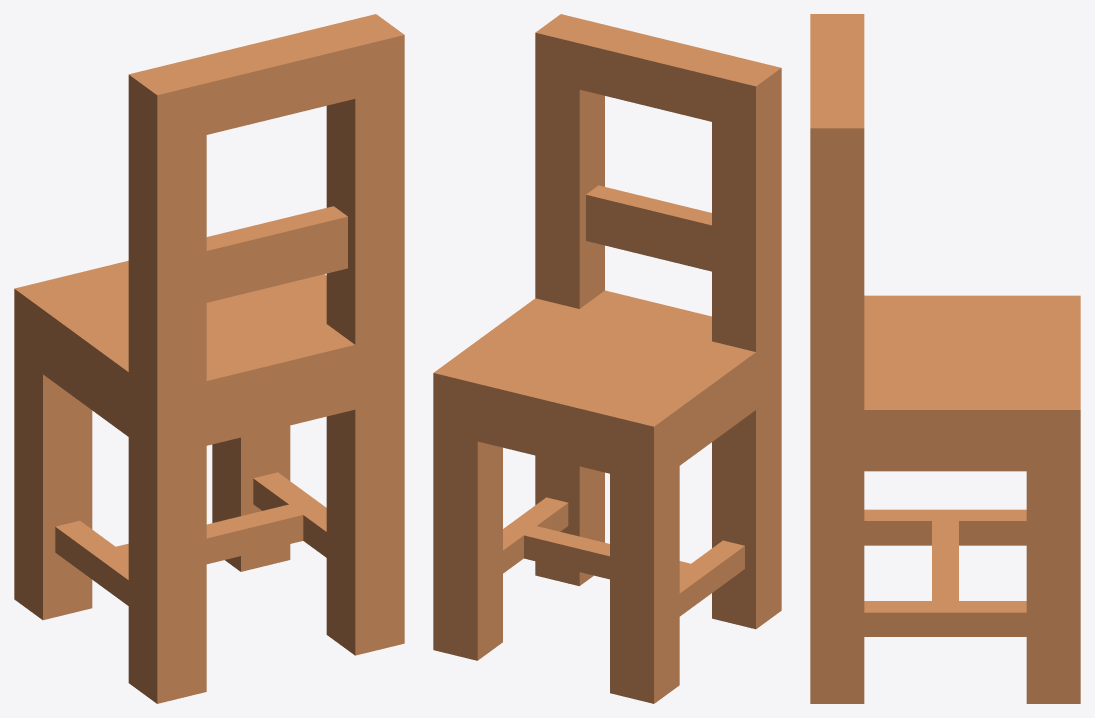
File: Chair1.glb
3 renders of one model, left to right at view 1: azimuth 30°, elevation 25°; view 2: azimuth 150°, elevation 25°; view 3: azimuth 270°, elevation 25°, orthographic. The views are drawn at different scales.
Visible parts, largest first — view 1: Chair1; view 2: Chair1; view 3: Chair1.
Boxes of the visible parts, x1=… form: Chair1: x1=14, y1=14, x2=404, y2=703; Chair1: x1=433, y1=14, x2=781, y2=703; Chair1: x1=810, y1=14, x2=1080, y2=703.
Size of the model in its own units: 0.5967 by 1.4 by 0.5967.
